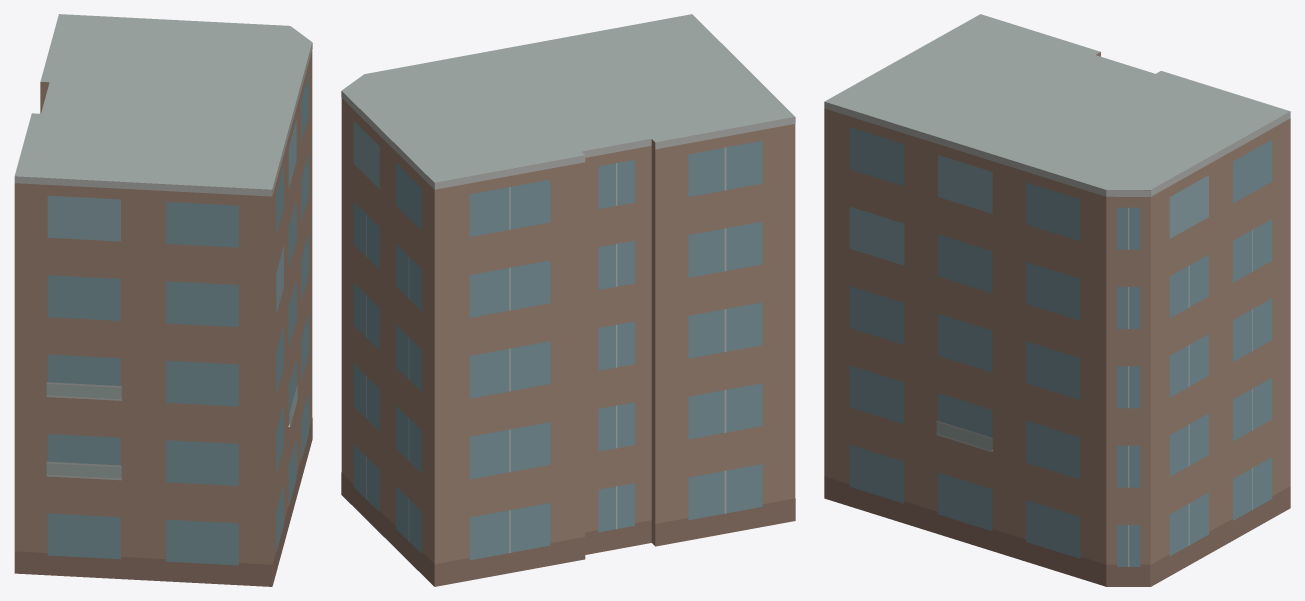
The model's file is survey-upis-32923673.glb.
3 renders of one model, left to right at view 1: azimuth 30°, elevation 25°; view 2: azimuth 150°, elevation 25°; view 3: azimuth 270°, elevation 25°, orthographic.
Visible parts, largest first — view 1: survey-upis-32923673.tmp; view 2: survey-upis-32923673.tmp; view 3: survey-upis-32923673.tmp.
Part boxes in pixels (x1=…): survey-upis-32923673.tmp: x1=14, y1=14, x2=312, y2=586; survey-upis-32923673.tmp: x1=341, y1=14, x2=795, y2=586; survey-upis-32923673.tmp: x1=824, y1=14, x2=1290, y2=586.
Size of the model in its own units: 13.47 by 14.15 by 15.08.
